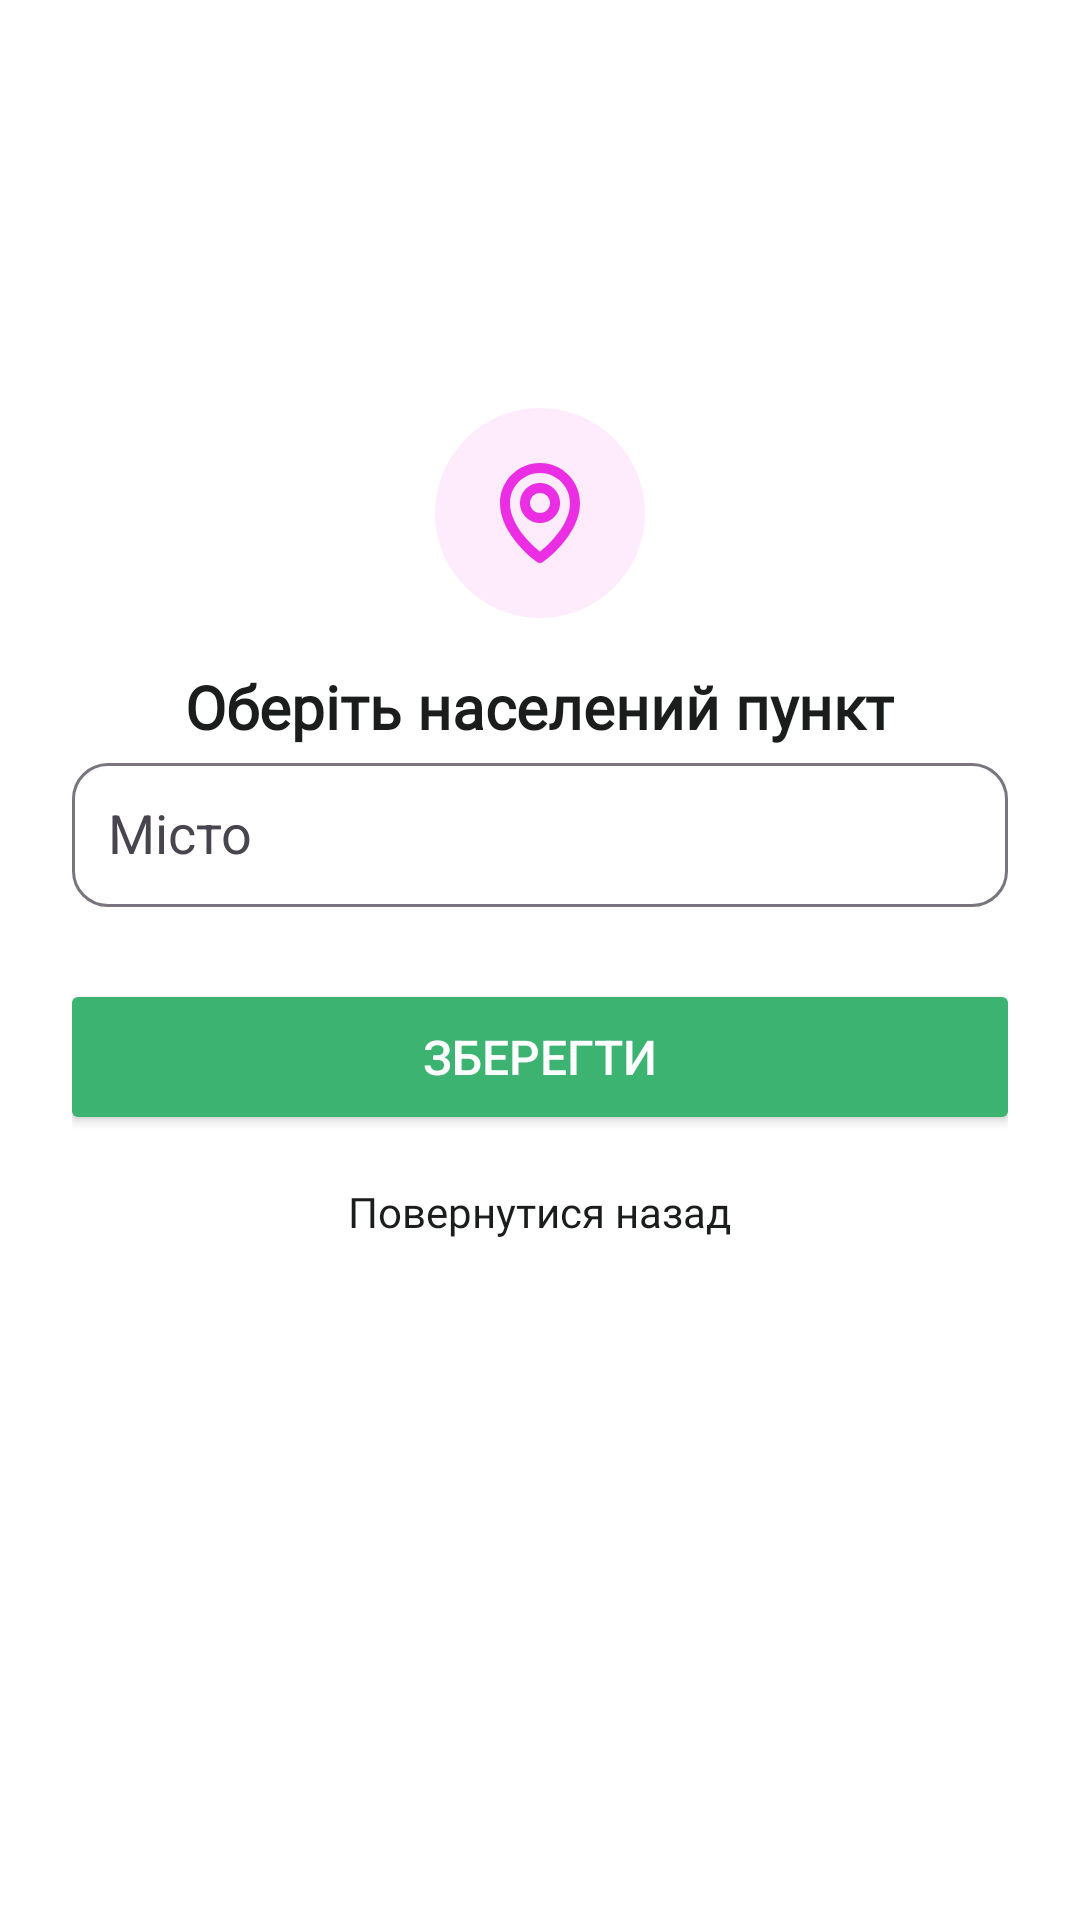

Where icons sit on this 1080x1920 app screen, as (x1=x1, y1=y1, x2=x2, y2=y2):
Location image: (x1=435, y1=408, x2=645, y2=618)
